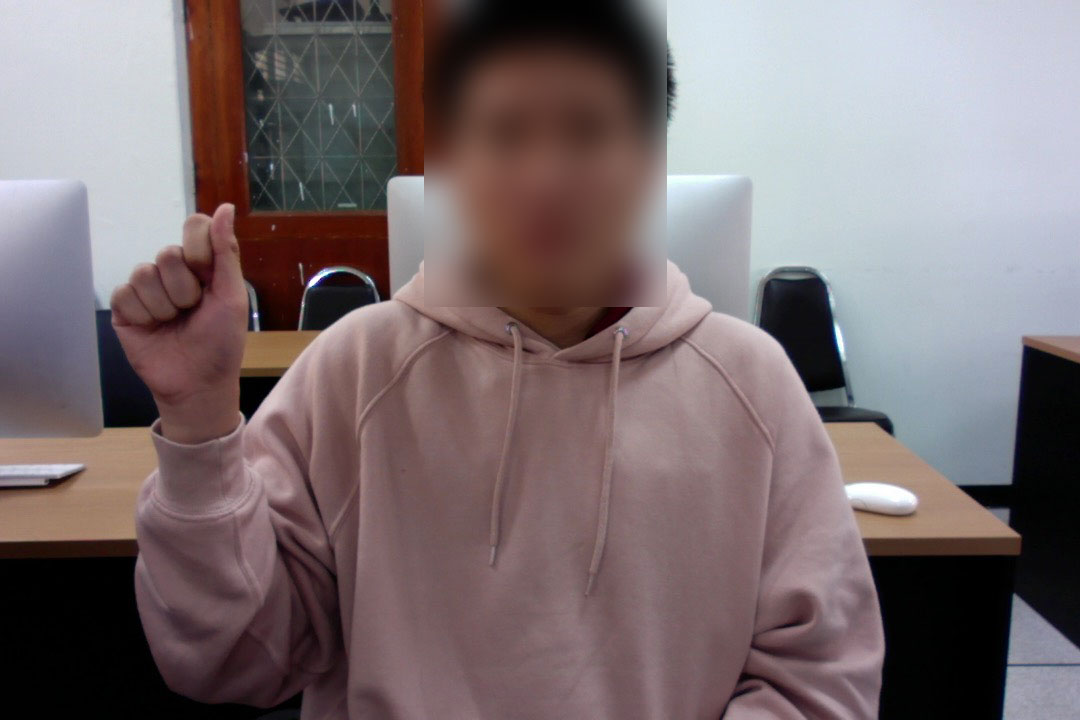or: (107, 194, 254, 417)
